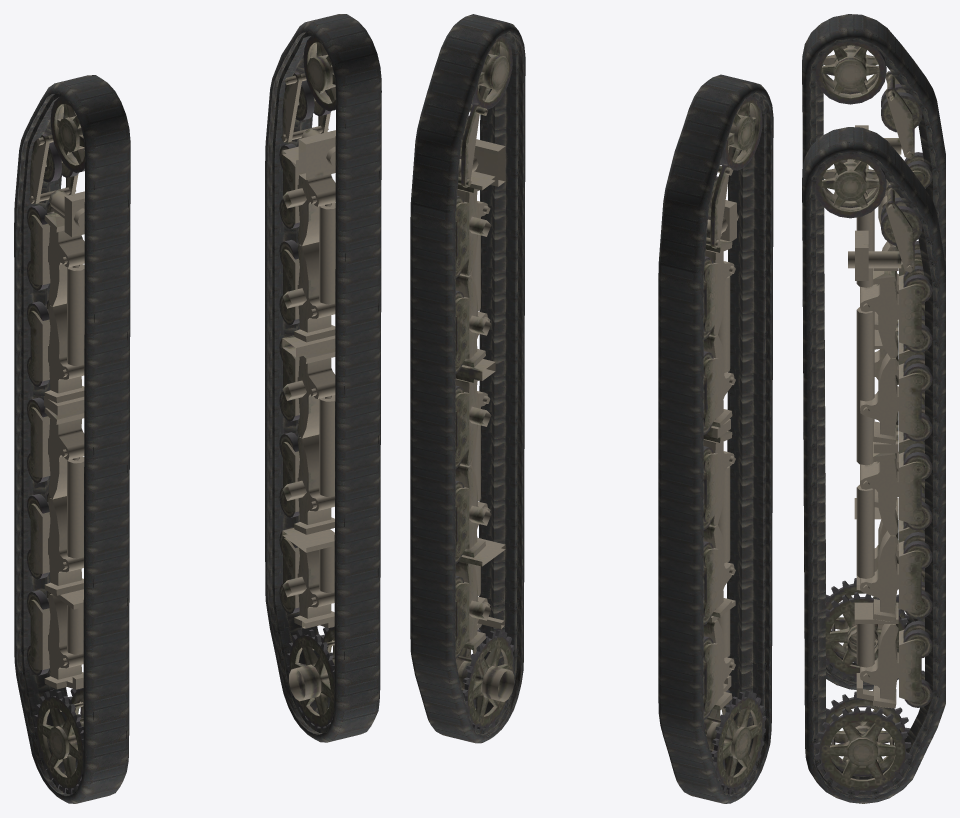
File: Chassis.glb
3 views of the same model, side by side, from view 1: azimuth 30°, elevation 25°; view 2: azimuth 150°, elevation 25°; view 3: azimuth 270°, elevation 25° (orthographic). The views are drawn at different scales.
Parts seen in each view (by area): view 1: set_0_group_0, set_1_group_0, set_3_group_0, set_5_group_0, set_4_group_0; view 2: set_1_group_0, set_0_group_0, set_5_group_0, set_3_group_0, set_4_group_0; view 3: set_5_group_0, set_0_group_0, set_3_group_0, set_1_group_0, set_4_group_0.
Part boxes in pixels (<box>): set_0_group_0: <box>265,14,381,742</box>; set_1_group_0: <box>14,75,130,803</box>; set_3_group_0: <box>27,97,84,794</box>; set_5_group_0: <box>279,36,335,731</box>; set_4_group_0: <box>279,442,299,517</box>; set_1_group_0: <box>658,74,773,803</box>; set_0_group_0: <box>410,14,525,743</box>; set_5_group_0: <box>455,36,514,731</box>; set_3_group_0: <box>703,96,766,794</box>; set_4_group_0: <box>455,487,469,563</box>; set_5_group_0: <box>814,154,932,795</box>; set_0_group_0: <box>802,127,945,803</box>; set_3_group_0: <box>815,41,932,681</box>; set_1_group_0: <box>802,14,945,690</box>; set_4_group_0: <box>899,541,932,619</box>.
Size of the model in its own units: 2.46 by 5.62 by 1.11.
Materials: 6 (6 with a texture image).
